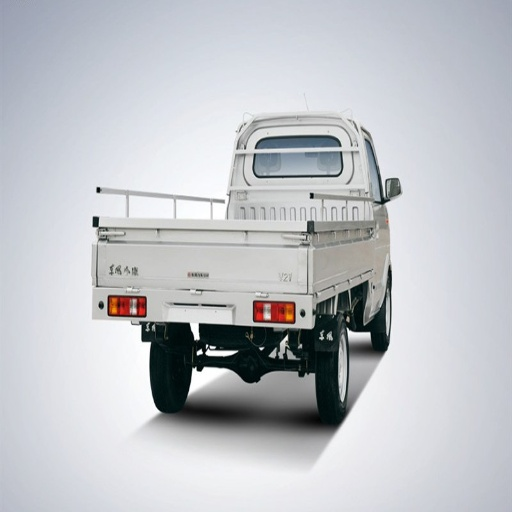trunk: (161, 185, 372, 296)
